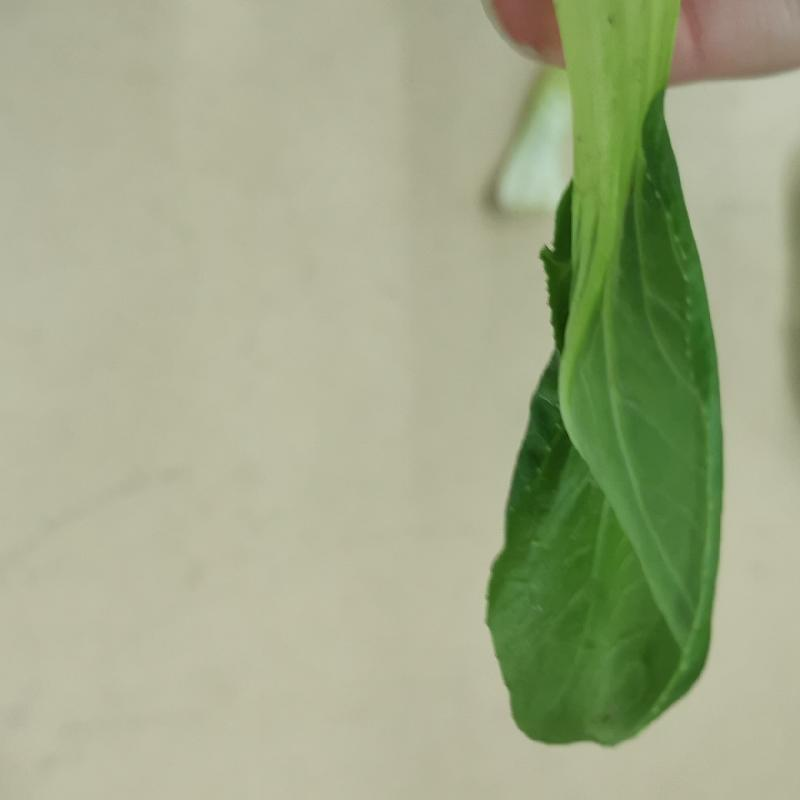green vegatable: (481, 0, 749, 756)
